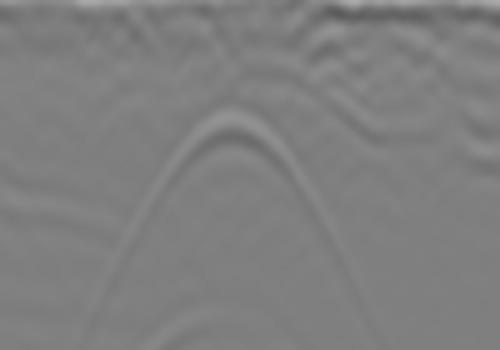hyperbola: (146, 101, 322, 211)
